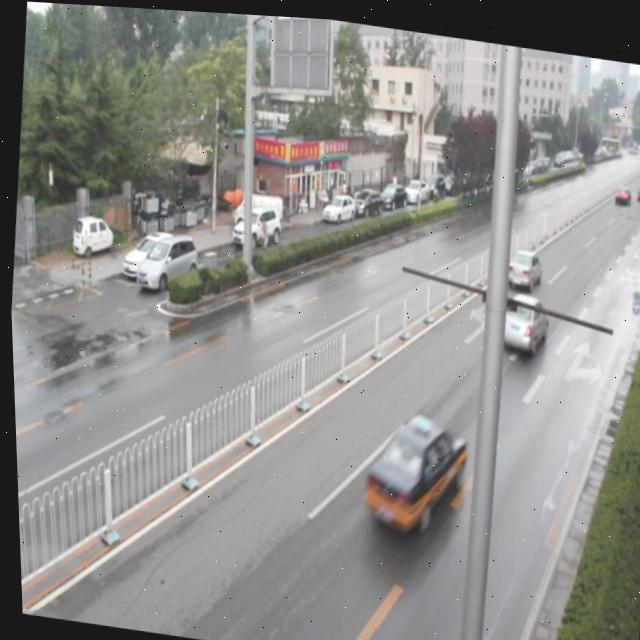car: (355, 403, 465, 535), (493, 284, 546, 349), (501, 237, 540, 286)
